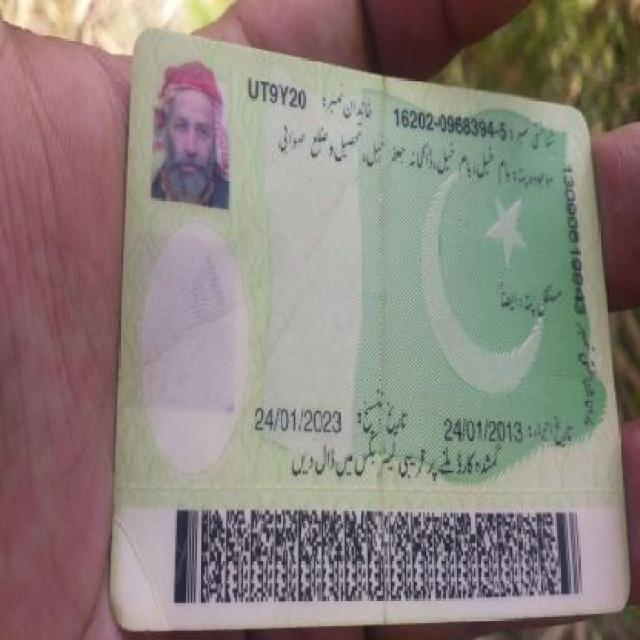Back: (120, 46, 618, 619)
